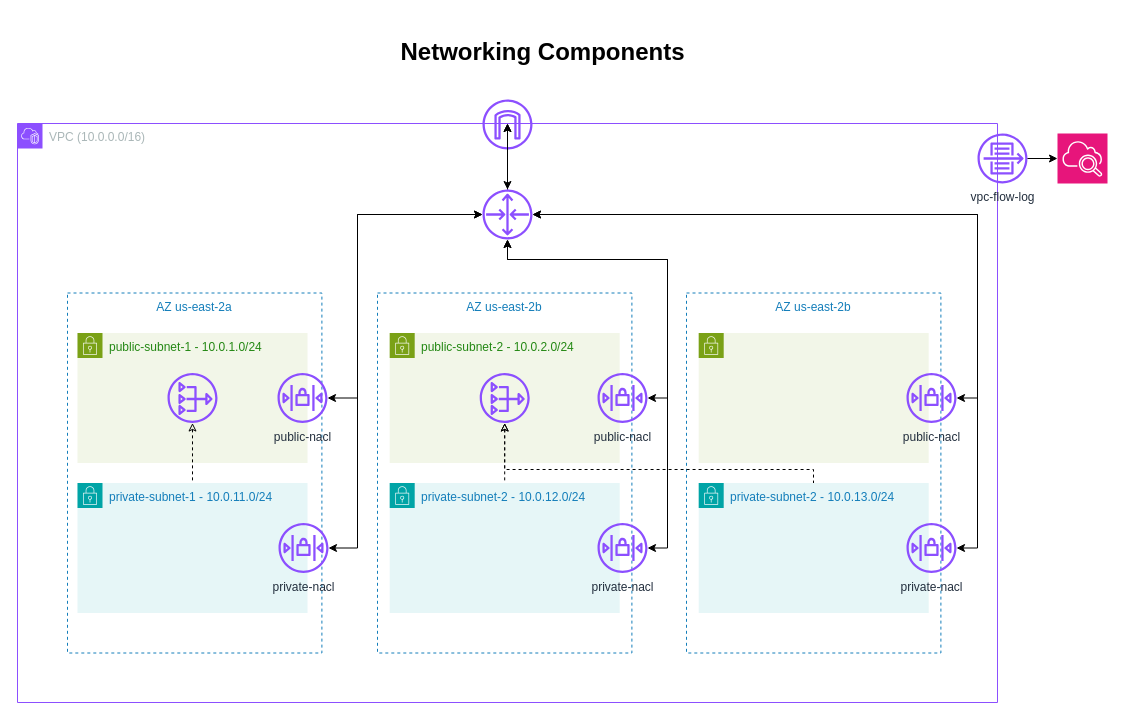
Some shapes in this 1138 by 720 pixel diagram are drawn without their labels. The centre of each missing label's shape, as x and y in pixels:
flow-log-group: the point at 1082,158
IGW: the point at 507,124
nat-gateway-1: the point at 192,397
nat-gateway-2: the point at 504,397
public-subnet-2 - 10.0.3.0/24: the point at 813,397
vpc router: the point at 507,214
